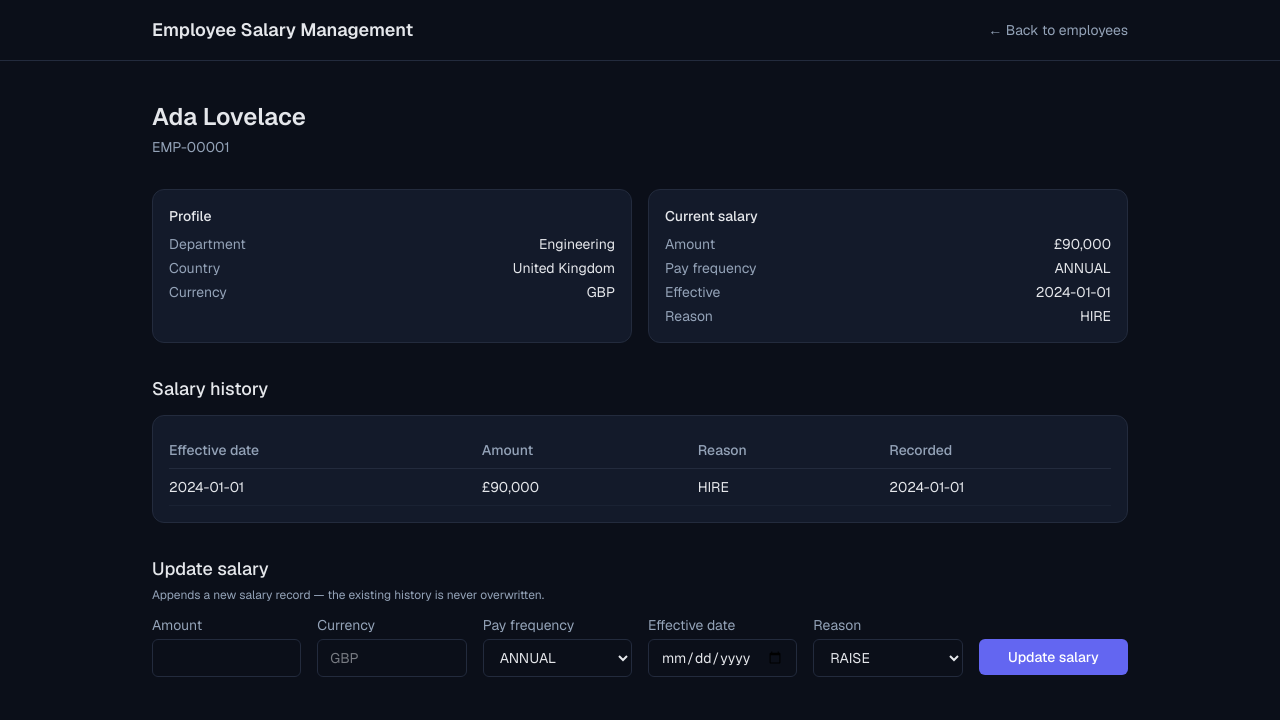
Scenario: EmployeeDetailPage › shows a validation error and does not submit when currency is not a 3-letter code
Type "95000" into the number field labelled "Amount" at (227, 658), box [152, 639, 301, 677]
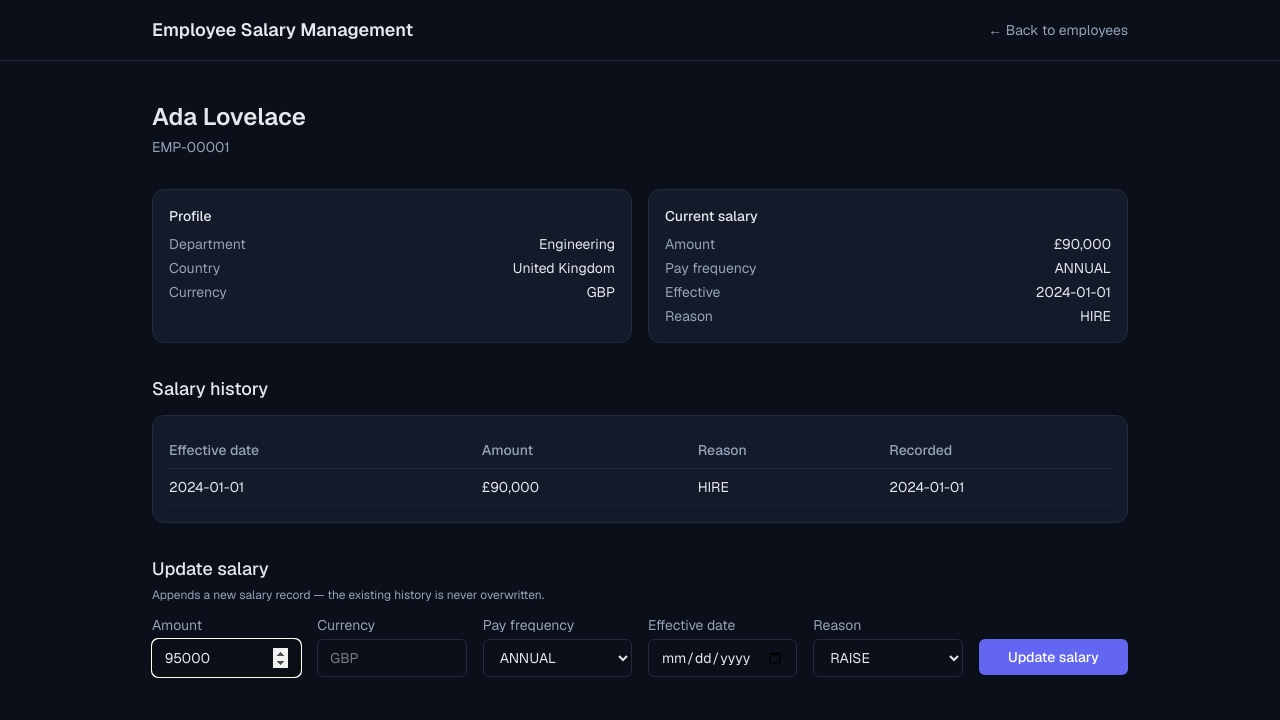
Type "G1" into the field labelled "Currency" at (392, 658), box [317, 639, 467, 677]
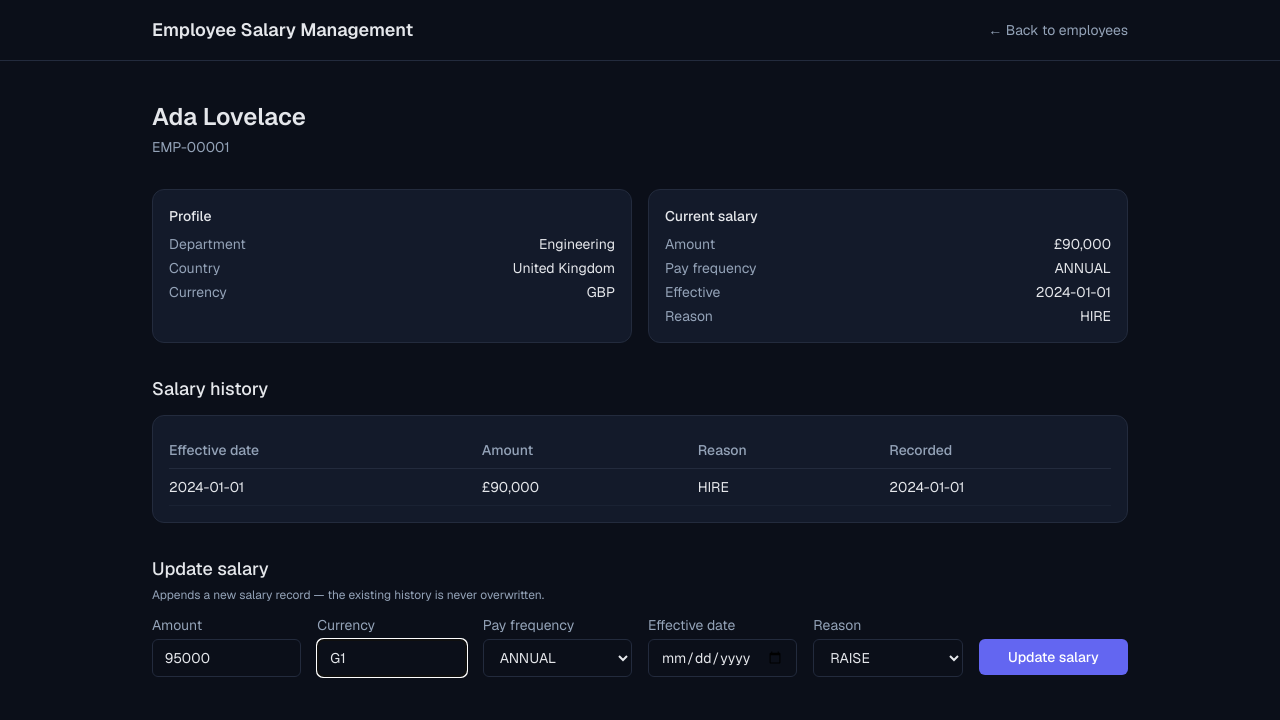
Type "2025-01-01" into the date field labelled "Effective date" at (723, 658), box [648, 639, 797, 677]
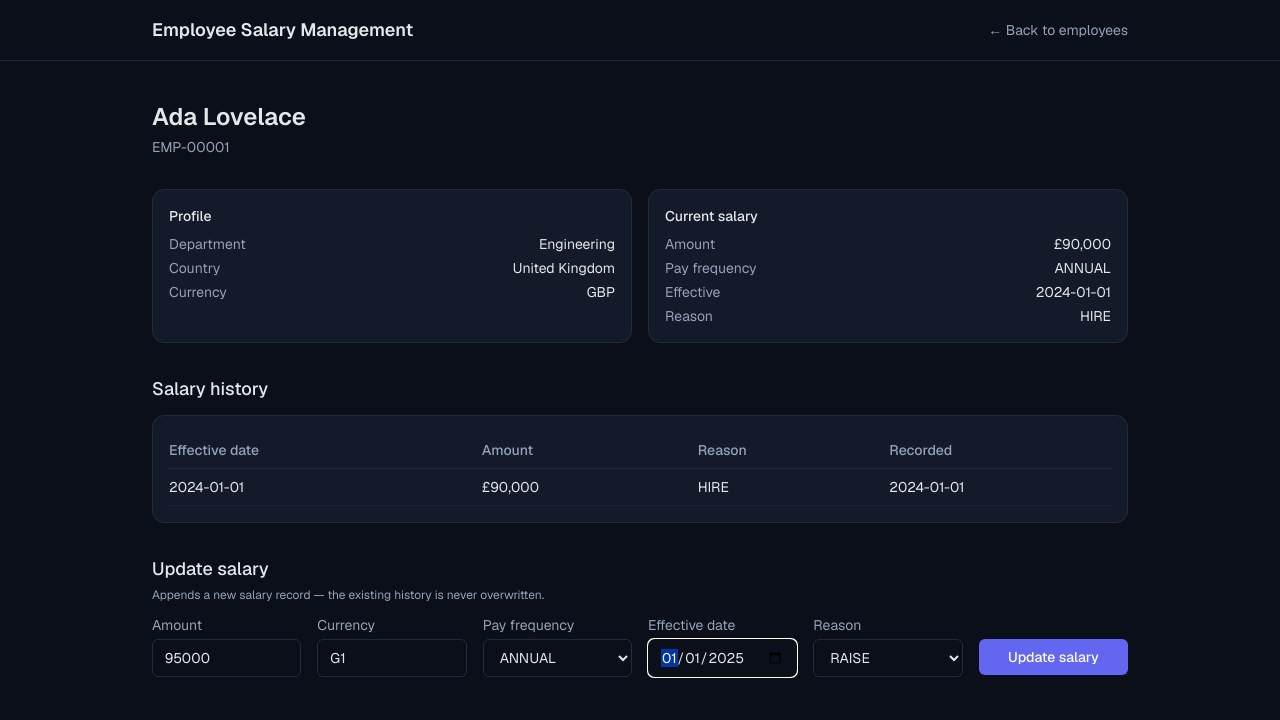
Click the button "Update salary" at (1053, 657), box [979, 639, 1128, 675]
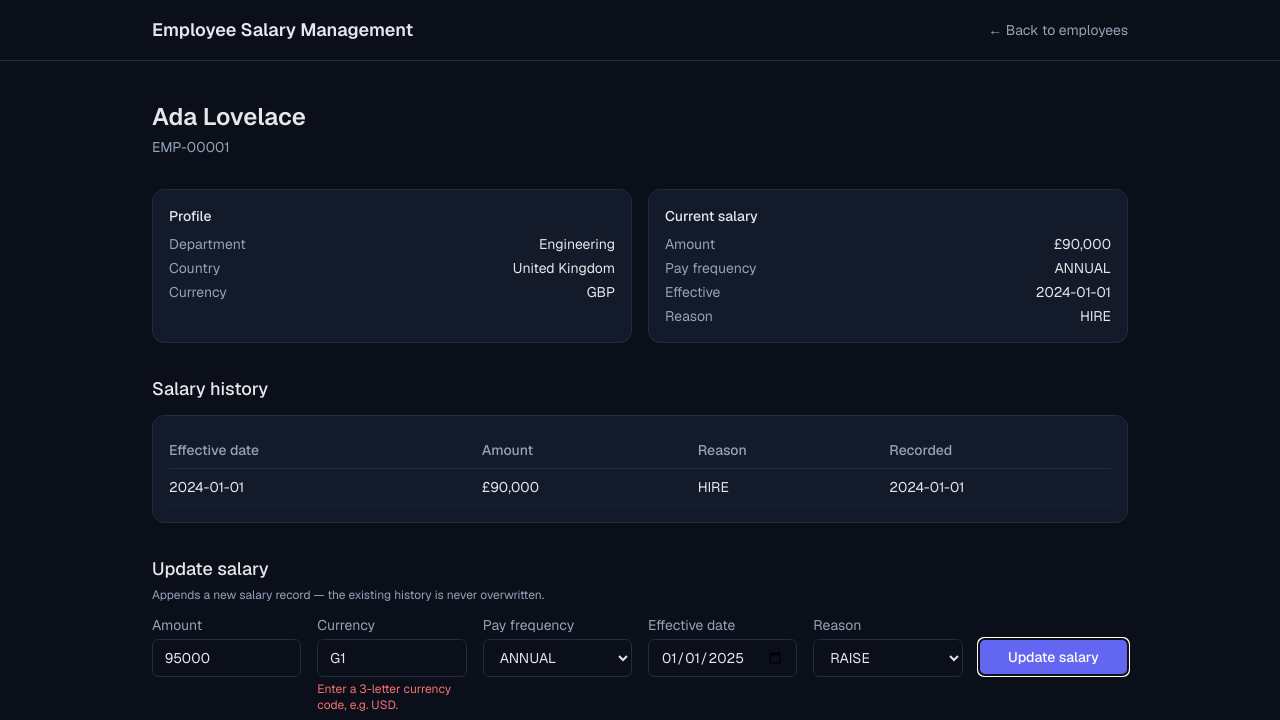
Result: the message shows "currency" at [317, 681, 451, 713]
